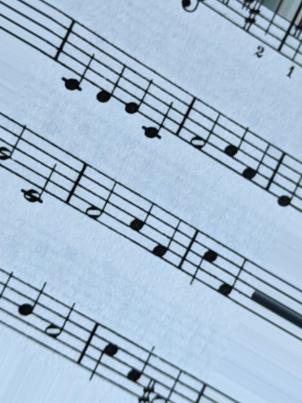note: (55, 5, 97, 96), (138, 57, 176, 146), (14, 269, 50, 353), (147, 197, 183, 275), (239, 120, 271, 201), (217, 236, 249, 316), (87, 313, 119, 392), (123, 331, 158, 402), (96, 32, 128, 108), (124, 45, 154, 126), (220, 107, 251, 184), (126, 181, 155, 260), (188, 217, 218, 291), (278, 142, 302, 215)
